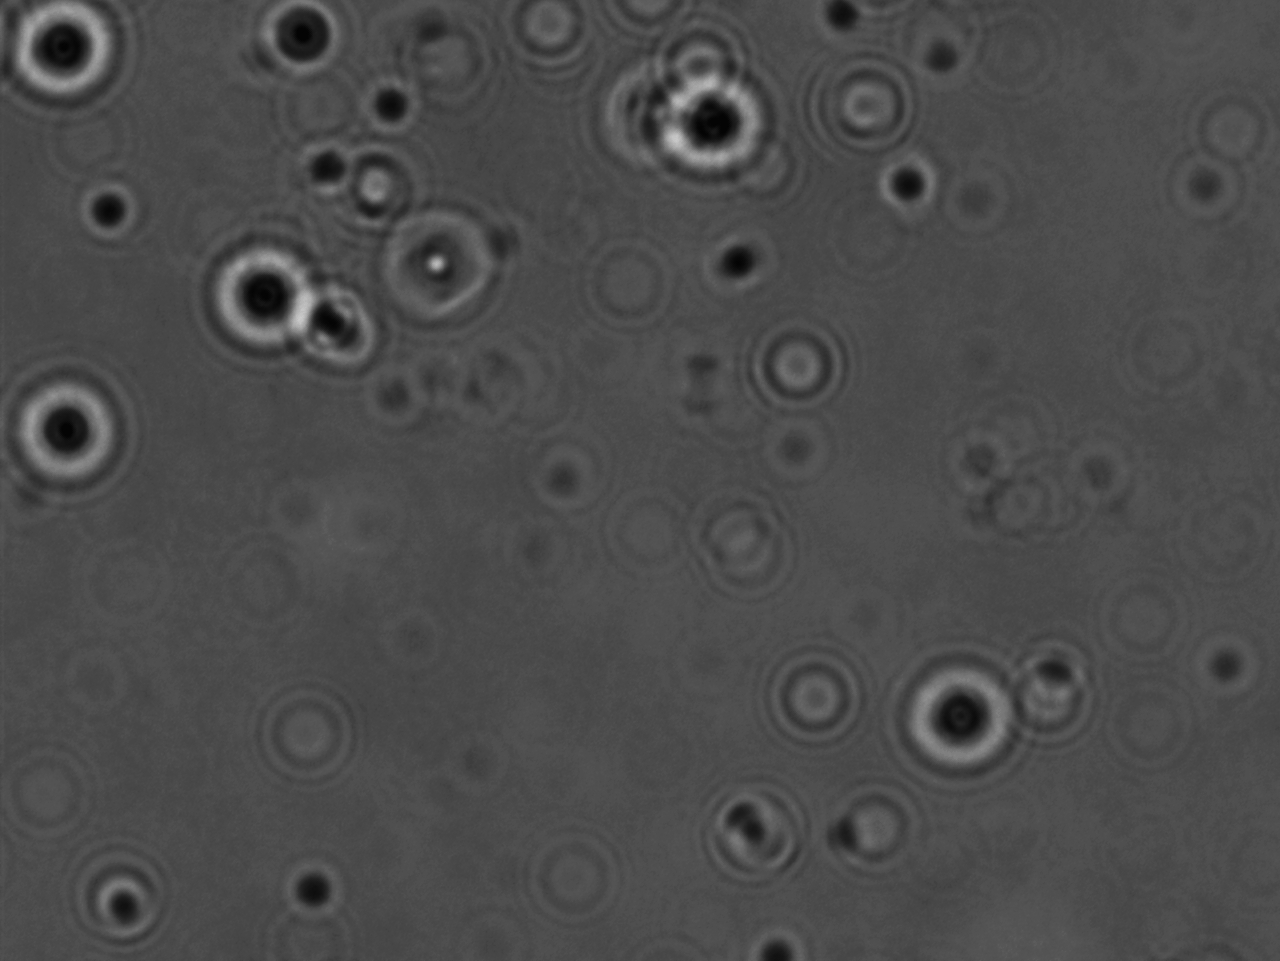depth:-16: (881, 643, 1033, 779), (197, 230, 336, 362), (1, 357, 133, 495), (646, 61, 783, 178)
